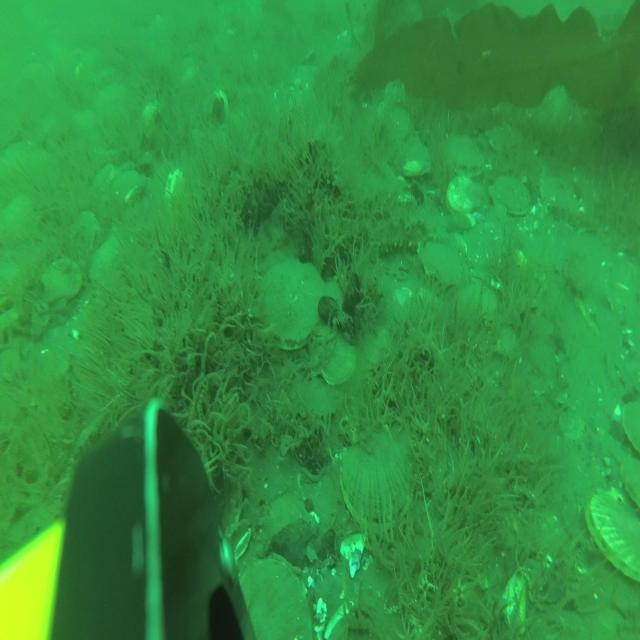holothurian: (368, 210, 425, 259)
scallop: (340, 436, 412, 532), (237, 555, 311, 640), (262, 257, 326, 352), (588, 476, 640, 584), (301, 463, 349, 551), (268, 495, 316, 575), (420, 235, 462, 290), (310, 278, 345, 341), (301, 366, 343, 418), (460, 282, 497, 335), (43, 257, 83, 305), (3, 198, 40, 249), (443, 131, 485, 175), (321, 333, 354, 385), (86, 236, 122, 283), (493, 170, 530, 215), (68, 206, 99, 254), (446, 175, 484, 212), (386, 106, 410, 142)
